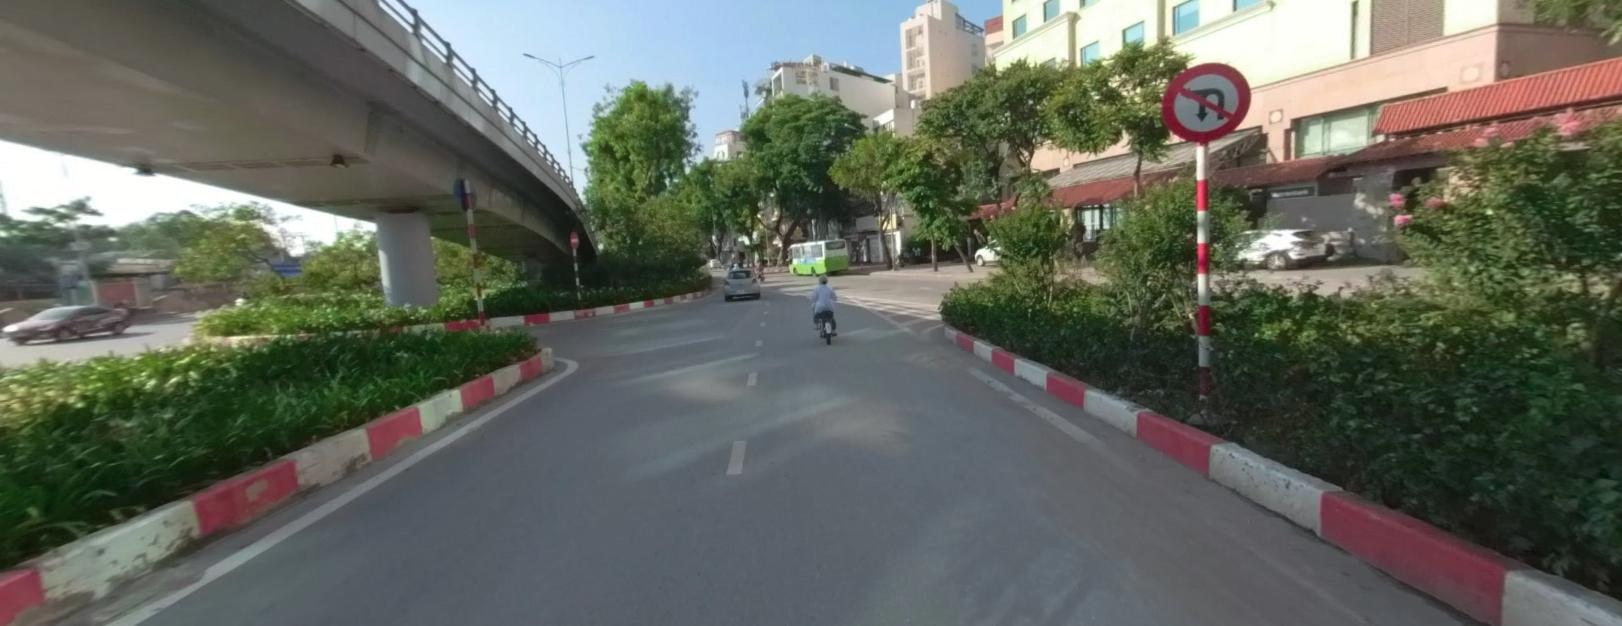Cam nguoc chieu: (569, 230, 578, 247)
Cam re: (1160, 59, 1252, 139)
